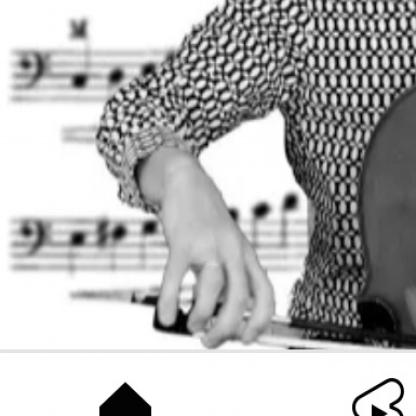good: (148, 227, 278, 354)
